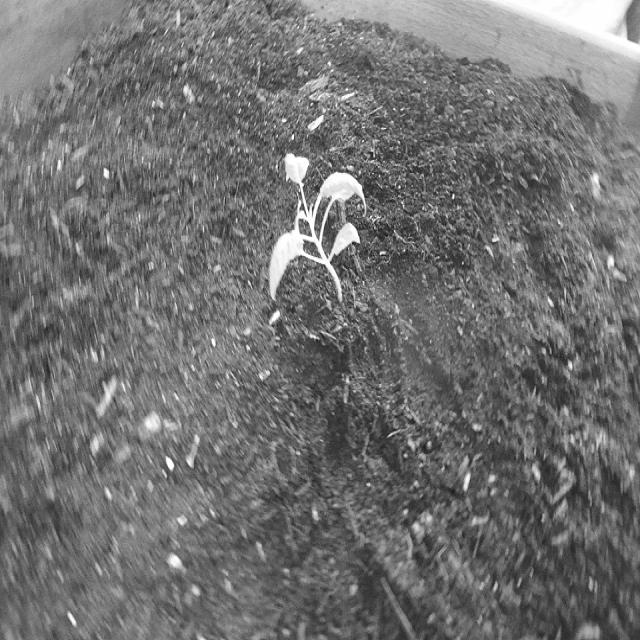Healthy: (264, 150, 371, 311)
